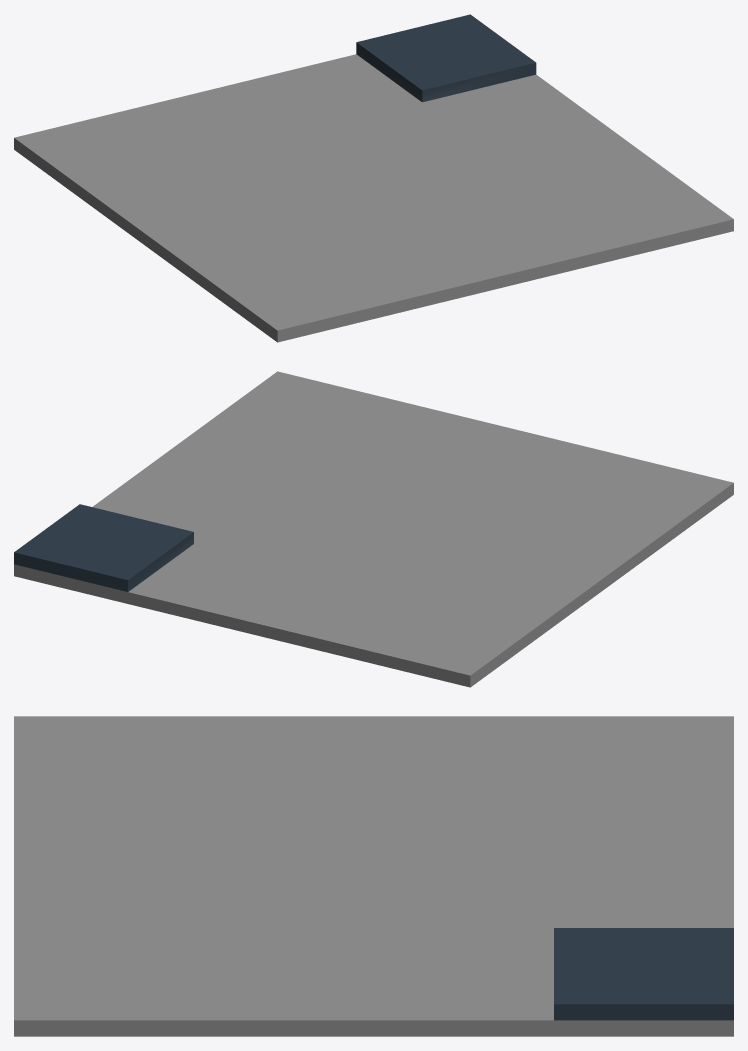
Rendered from RuaQuadrado.fbx.
3 views of the same model, one above another, from view 1: azimuth 30°, elevation 25°; view 2: azimuth 150°, elevation 25°; view 3: azimuth 270°, elevation 25° (orthographic). The views are drawn at different scales.
Parts seen in each view (by area): view 1: Rua.quina; view 2: Rua.quina; view 3: Rua.quina.
Part boxes in pixels (x1,y1,x2,y2): Rua.quina: [14, 14, 733, 342]; Rua.quina: [14, 371, 733, 687]; Rua.quina: [14, 716, 733, 1036].
Bounding box in the file's own units: 4 × 0.2 × 4.
